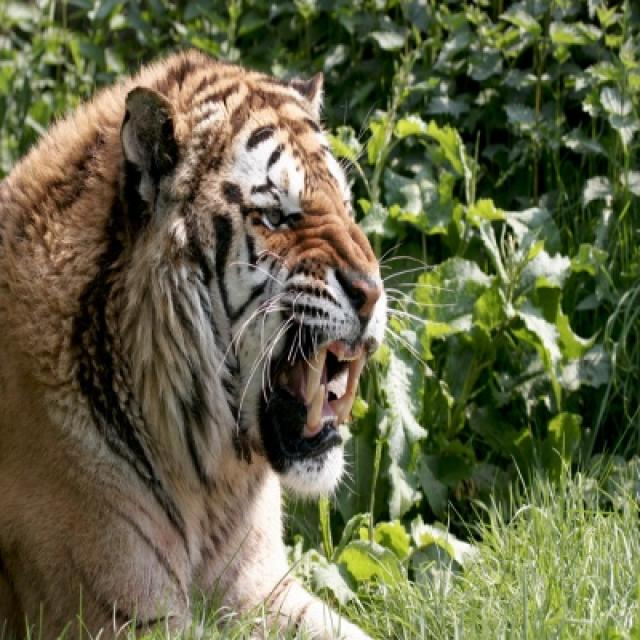Tiger: (0, 51, 386, 638)
